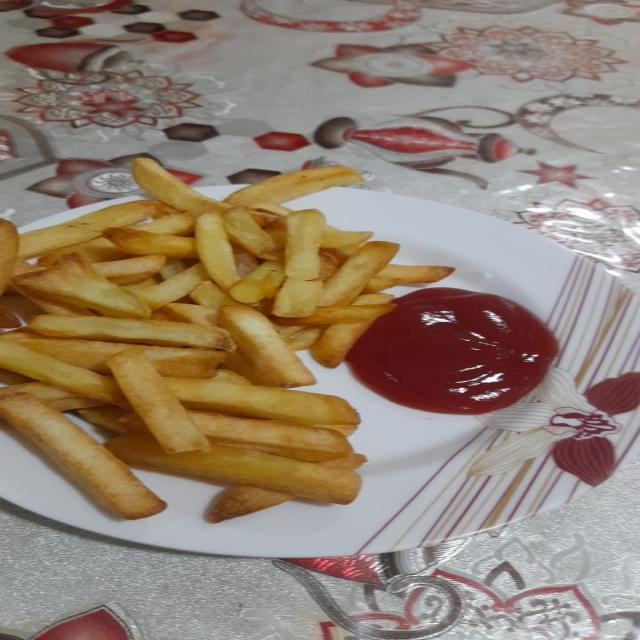potato fries: (0, 158, 452, 521), (0, 394, 166, 518), (107, 434, 360, 503), (109, 349, 208, 452), (168, 378, 359, 424), (13, 254, 151, 317), (189, 411, 351, 461), (19, 200, 161, 257), (0, 341, 126, 405), (217, 306, 315, 387), (29, 315, 234, 349), (225, 166, 362, 206), (0, 332, 131, 373), (133, 158, 228, 213), (321, 241, 399, 305), (196, 213, 239, 289), (207, 486, 294, 522), (139, 263, 207, 309), (312, 318, 374, 367), (223, 207, 279, 259), (0, 382, 103, 410), (285, 210, 325, 279), (103, 228, 198, 257), (278, 304, 394, 325), (365, 265, 454, 292), (38, 237, 123, 265), (230, 261, 285, 303), (93, 255, 166, 285), (273, 278, 323, 317), (78, 406, 131, 433), (190, 281, 241, 309), (0, 219, 18, 296), (162, 303, 216, 326), (320, 225, 373, 248), (284, 327, 321, 350), (160, 258, 187, 280), (216, 369, 251, 384), (0, 305, 22, 328)
